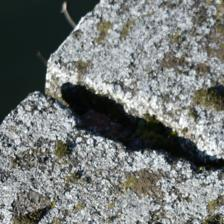Crack: (29, 32, 195, 145)
